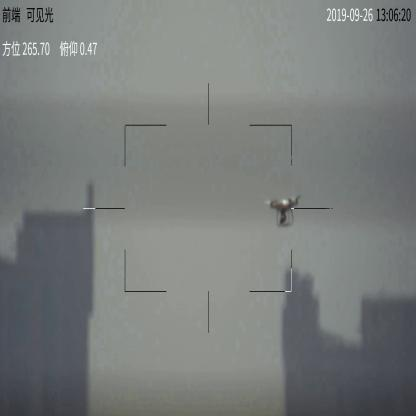uav: (263, 194, 306, 227)
